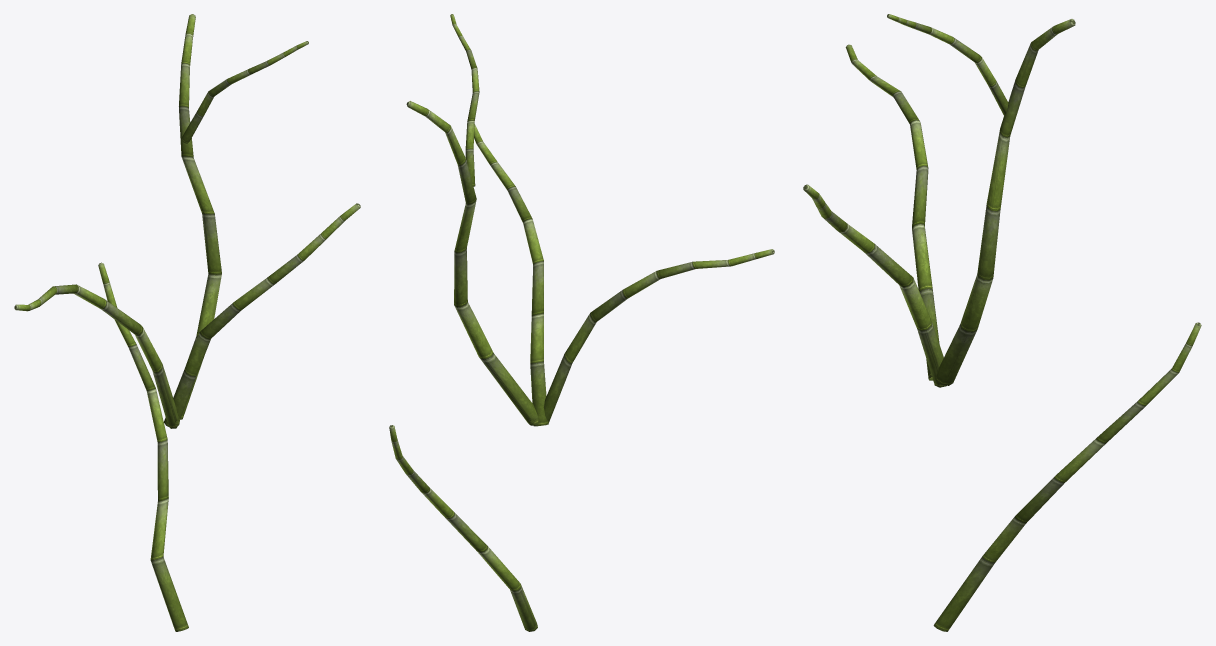
Rendered from BambooSet_part_20.fbx.
3 renders of one model, left to right at view 1: azimuth 30°, elevation 25°; view 2: azimuth 150°, elevation 25°; view 3: azimuth 270°, elevation 25°, orthographic. The views are drawn at different scales.
Parts seen in each view (by area): view 1: Object_42.001; view 2: Object_42.001; view 3: Object_42.001.
Boxes of the visible parts, left/top/right/bottom form: Object_42.001: left=14, top=14, right=360, bottom=631; Object_42.001: left=389, top=14, right=774, bottom=631; Object_42.001: left=803, top=14, right=1201, bottom=631.
Size of the model in its own units: 572 by 973 by 521.
